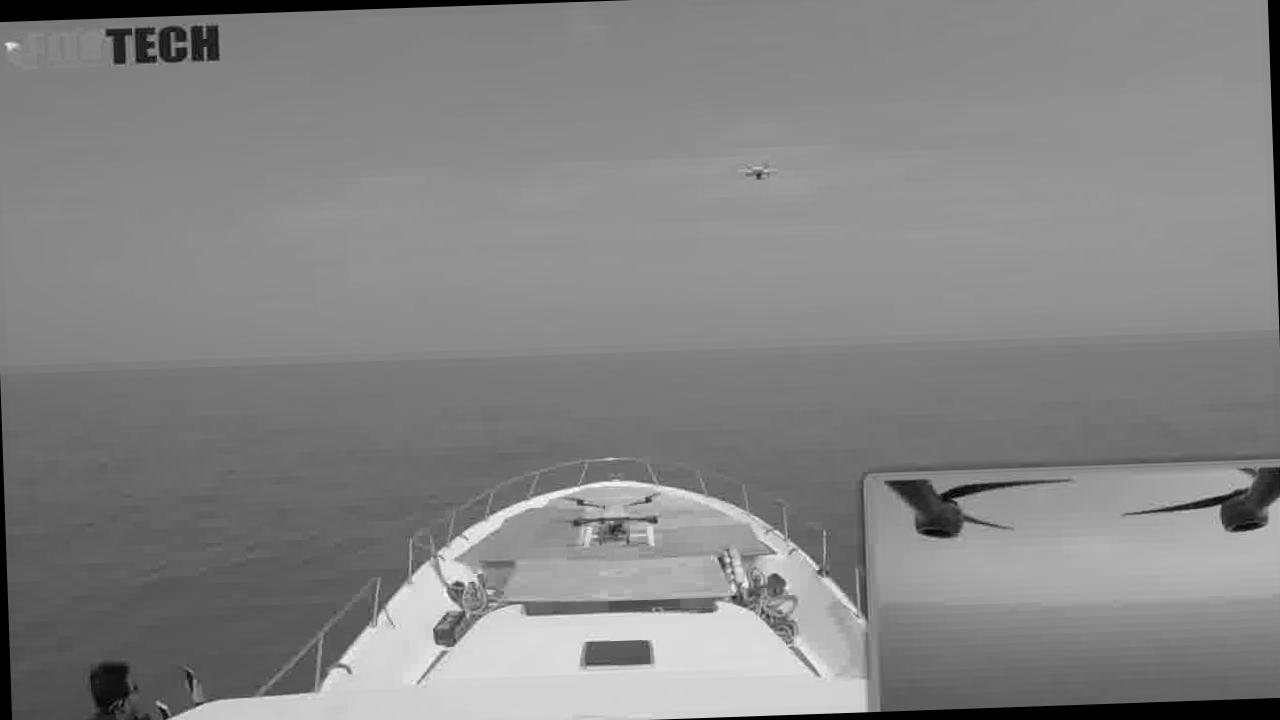drone: (557, 477, 689, 542), (714, 146, 796, 204)
